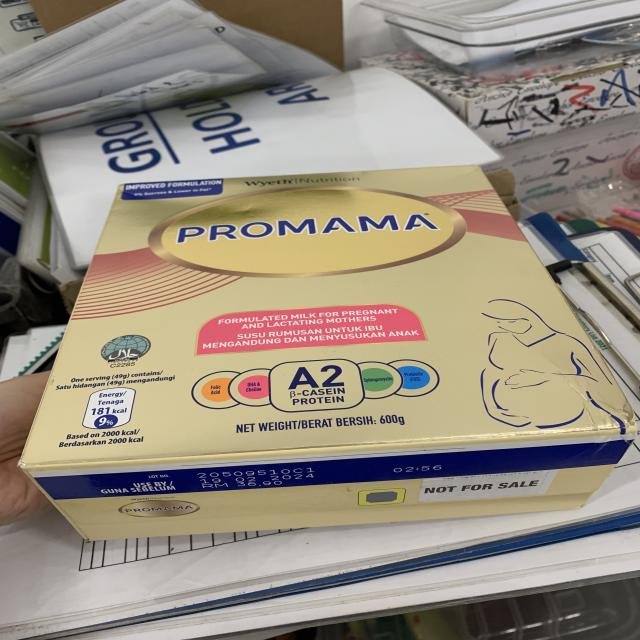object_name: (52, 189, 606, 518)
